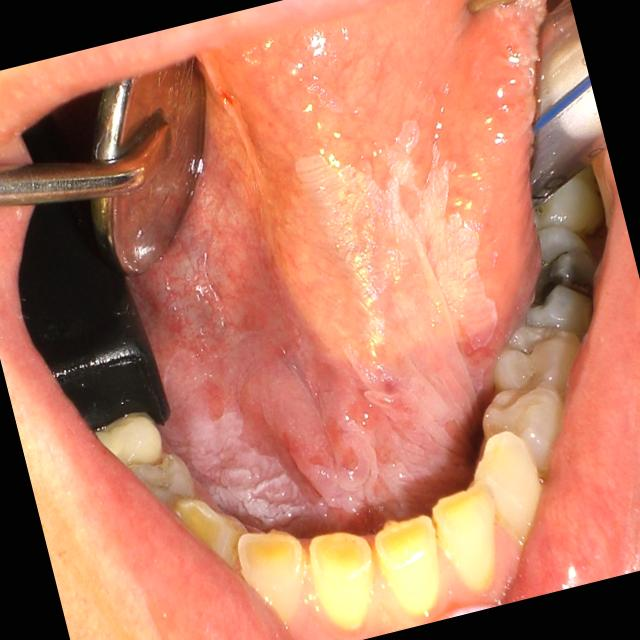Cancer: (200, 0, 622, 487)
